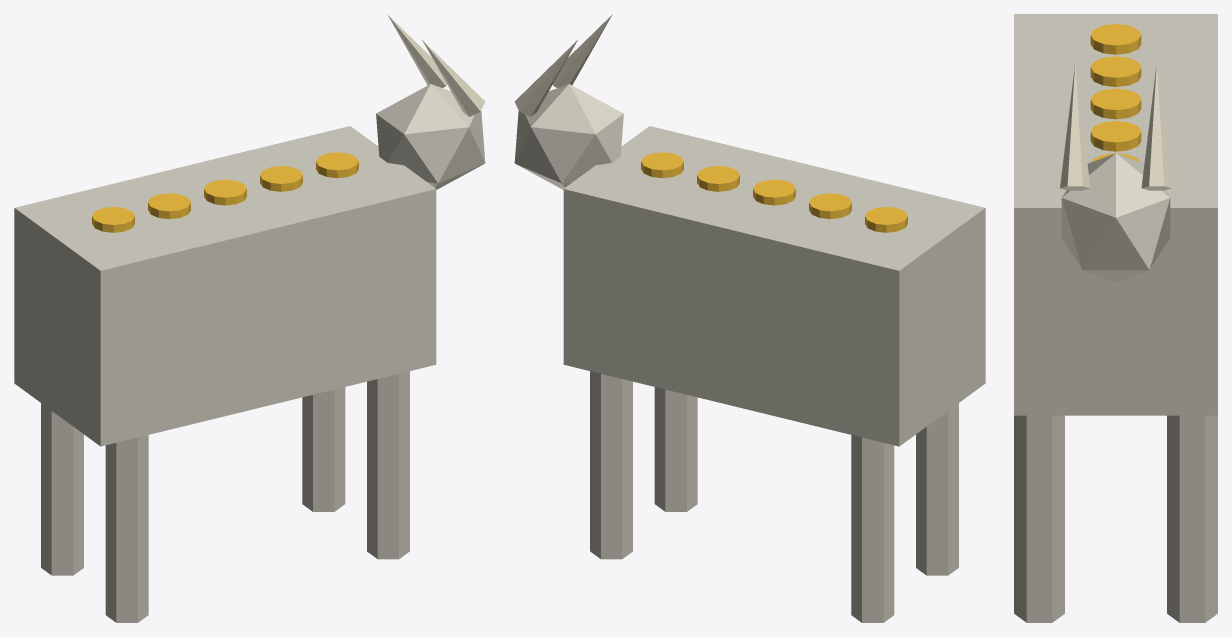
Rendered from Mob_OR_CoinbackGoat_00.glb.
The picture shows the model from 3 angles, left to right: view 1: azimuth 30°, elevation 25°; view 2: azimuth 150°, elevation 25°; view 3: azimuth 270°, elevation 25°; orthographic projection. The views are drawn at different scales.
Parts seen in each view (by area): view 1: Mob_OR_CoinbackGoat_00; view 2: Mob_OR_CoinbackGoat_00; view 3: Mob_OR_CoinbackGoat_00.
Boxes of the visible parts, x1=… form: Mob_OR_CoinbackGoat_00: x1=14, y1=14, x2=485, y2=622; Mob_OR_CoinbackGoat_00: x1=514, y1=14, x2=985, y2=622; Mob_OR_CoinbackGoat_00: x1=1014, y1=14, x2=1217, y2=622.
Bounding box in the file's own units: 1.13 × 1.25 × 0.4.
